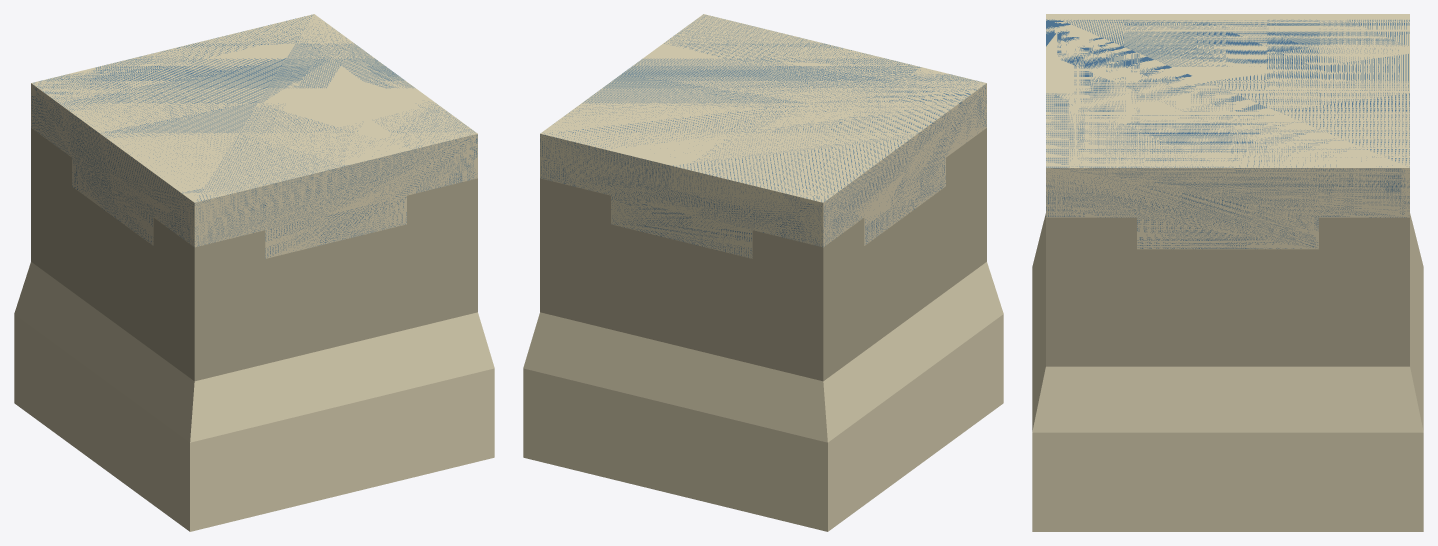
The model's file is towerSquareBaseColor.obj.
3 views of the same model, side by side, from view 1: azimuth 30°, elevation 25°; view 2: azimuth 150°, elevation 25°; view 3: azimuth 270°, elevation 25° (orthographic). The views are drawn at different scales.
Parts seen in each view (by area): view 1: towerSquareBaseColor; view 2: towerSquareBaseColor; view 3: towerSquareBaseColor.
Part boxes in pixels (<box>): towerSquareBaseColor: <box>14,14,494,531</box>; towerSquareBaseColor: <box>523,14,1003,531</box>; towerSquareBaseColor: <box>1032,14,1423,531</box>.
Size of the model in its own units: 10 by 10.1 by 10.
